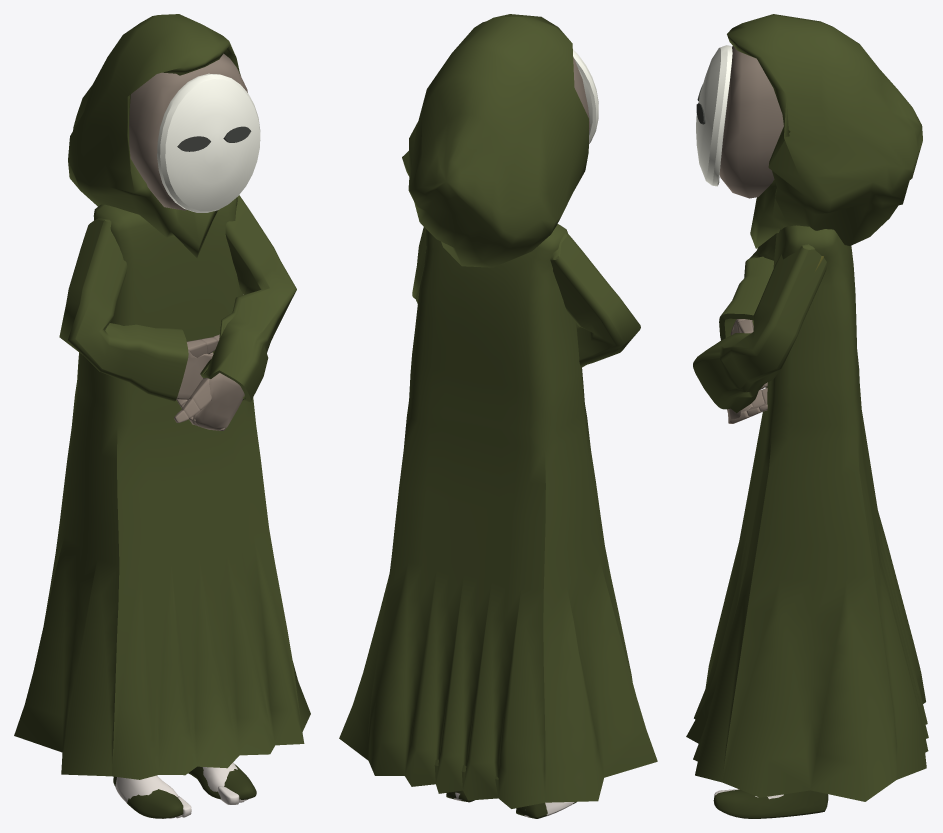
Rendered from Virgo.fbx.
3 views of the same model, side by side, from view 1: azimuth 30°, elevation 25°; view 2: azimuth 150°, elevation 25°; view 3: azimuth 270°, elevation 25° (orthographic).
Visible parts, largest first — view 1: polySurface3, Caputxa1, polySurface8, màscara, polySurface9, head_geo, R_palm_R_geo (×2), foot_R_geo, foot_L_geo, foot_R_geo1; view 2: polySurface3, Caputxa1, polySurface8, màscara; view 3: polySurface3, Caputxa1, polySurface9, head_geo, màscara, foot_L_geo, polySurface8.
Part boxes in pixels (left/top/right/bottom): polySurface3: left=14, top=197, right=310, bottom=779; Caputxa1: left=68, top=14, right=240, bottom=257; polySurface8: left=59, top=218, right=188, bottom=401; màscara: left=157, top=73, right=260, bottom=212; polySurface9: left=200, top=195, right=296, bottom=401; head_geo: left=129, top=53, right=247, bottom=210; R_palm_R_geo (×2): left=176, top=351, right=244, bottom=430; foot_R_geo: left=113, top=776, right=183, bottom=818; foot_L_geo: left=188, top=764, right=256, bottom=799; foot_R_geo1: left=115, top=775, right=178, bottom=802; polySurface3: left=339, top=224, right=657, bottom=808; Caputxa1: left=402, top=14, right=588, bottom=267; polySurface8: left=550, top=232, right=640, bottom=367; màscara: left=573, top=49, right=598, bottom=143; polySurface3: left=686, top=225, right=928, bottom=801; Caputxa1: left=727, top=14, right=922, bottom=248; polySurface9: left=693, top=244, right=827, bottom=413; head_geo: left=719, top=46, right=783, bottom=198; màscara: left=696, top=45, right=732, bottom=186; foot_L_geo: left=713, top=789, right=828, bottom=818; polySurface8: left=719, top=233, right=776, bottom=340.
Bounding box in the file's own units: 1.24 × 3.48 × 0.9859.
